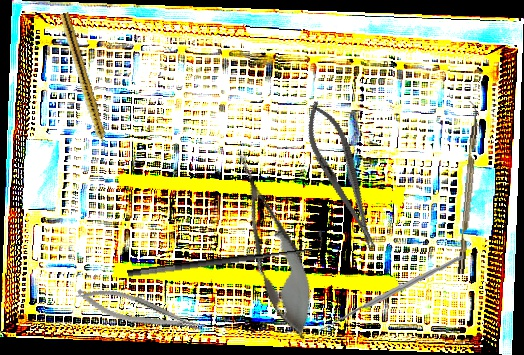Chopper: (448, 100, 483, 275)
Handpiece: (56, 11, 112, 156)
Hook Surgical: (317, 246, 464, 349), (125, 229, 327, 281)
Micro Scissor: (216, 142, 329, 347)
Needle Holder: (295, 95, 389, 256), (72, 277, 210, 347)
